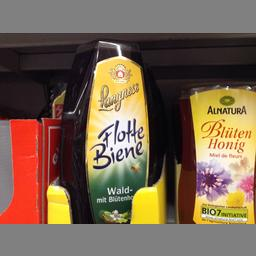honey: (62, 38, 159, 220), (177, 84, 255, 222)
